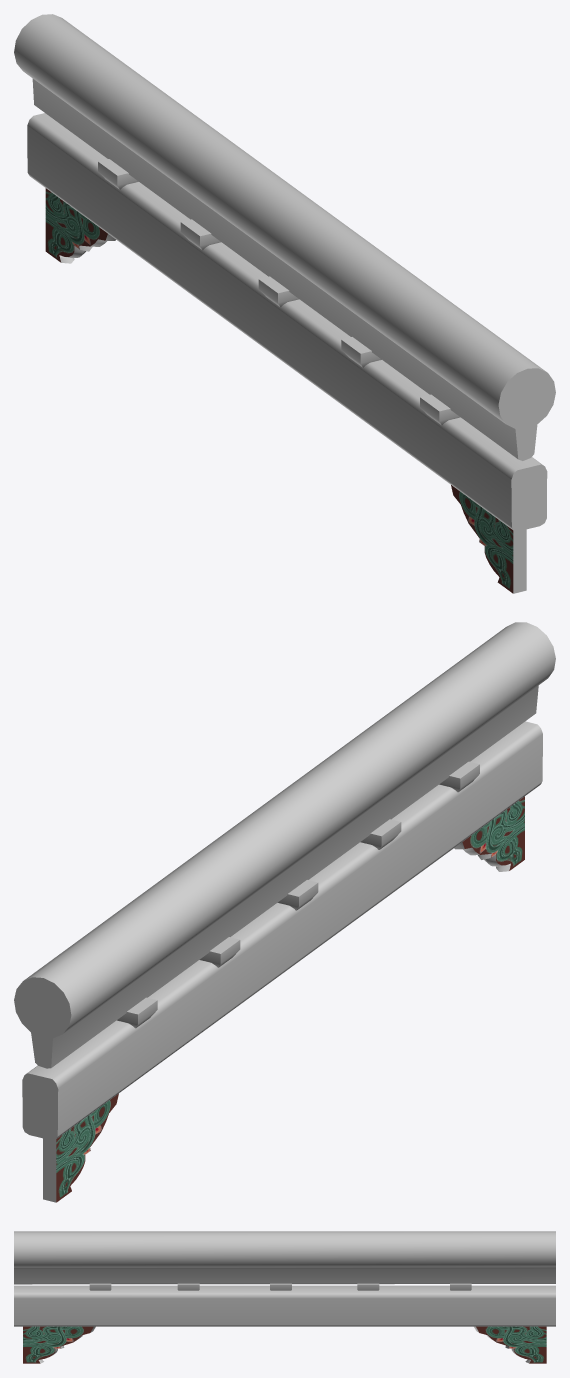
Rendered from SM_R_Dancheong_22.fbx.
3 views of the same model, one above another, from view 1: azimuth 30°, elevation 25°; view 2: azimuth 150°, elevation 25°; view 3: azimuth 270°, elevation 25° (orthographic). The views are drawn at different scales.
Parts seen in each view (by area): view 1: SM_R_Dancheong_22_LOD0; view 2: SM_R_Dancheong_22_LOD0; view 3: SM_R_Dancheong_22_LOD0.
Part boxes in pixels (left/top/right/bottom): SM_R_Dancheong_22_LOD0: left=14, top=14, right=555, bottom=593; SM_R_Dancheong_22_LOD0: left=14, top=622, right=555, bottom=1202; SM_R_Dancheong_22_LOD0: left=14, top=1231, right=555, bottom=1363.
Bounding box in the file's own units: 33.25 × 482 × 126.
